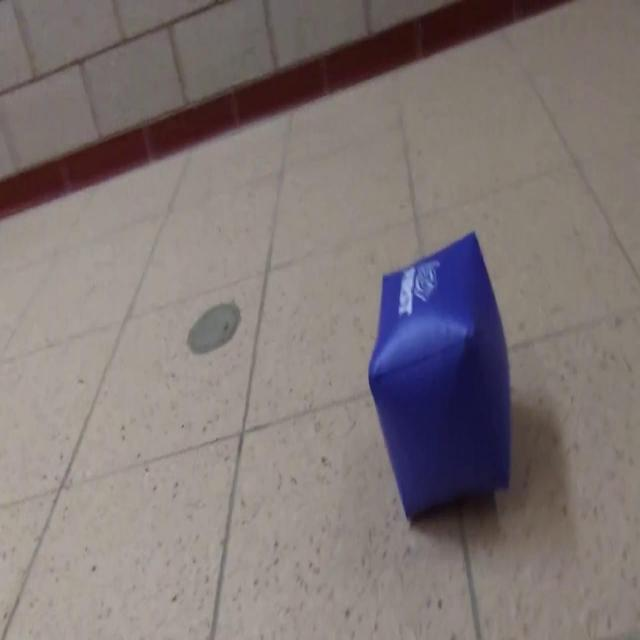frc_cube: (368, 230, 509, 523)
